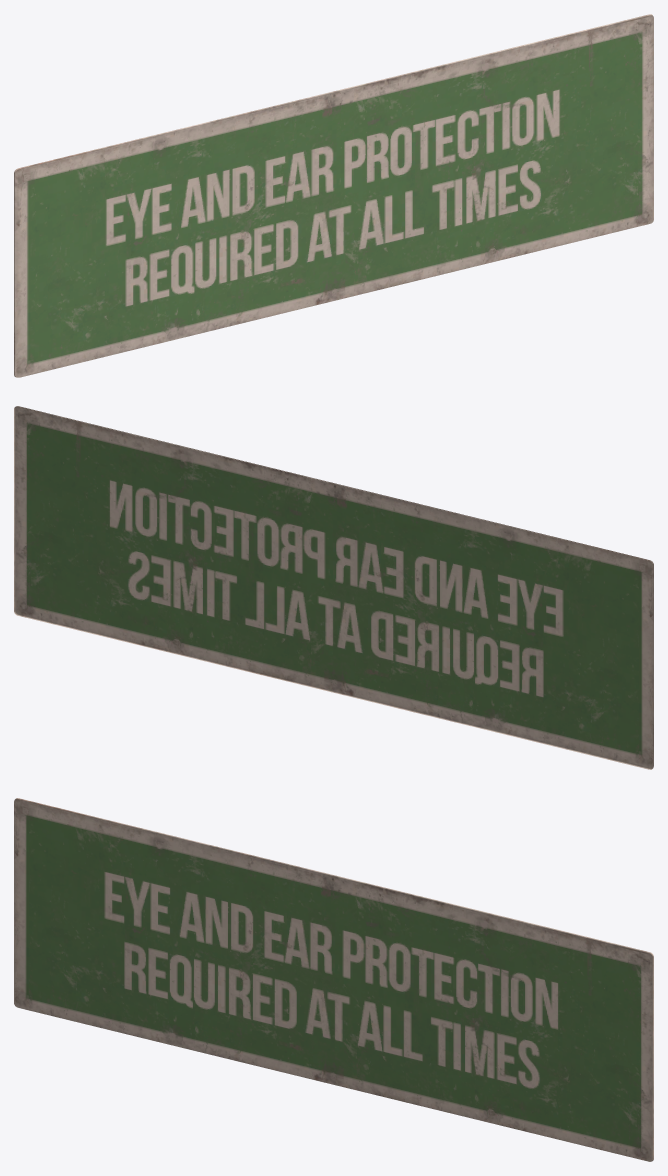
Rendered from SM_Sign_02h.glb.
3 views of the same model, one above another, from view 1: azimuth 30°, elevation 25°; view 2: azimuth 150°, elevation 25°; view 3: azimuth 330°, elevation 25° (orthographic).
Parts seen in each view (by area): view 1: SM_Sign_02h; view 2: SM_Sign_02h; view 3: SM_Sign_02h.
Boxes of the visible parts, bbox=[...] form: SM_Sign_02h: bbox=[14, 14, 653, 377]; SM_Sign_02h: bbox=[14, 406, 653, 769]; SM_Sign_02h: bbox=[14, 798, 653, 1161].
Size of the model in its own units: 0.691 by 0.2159 by 0.00195.
Materials: 1 (1 with a texture image).
